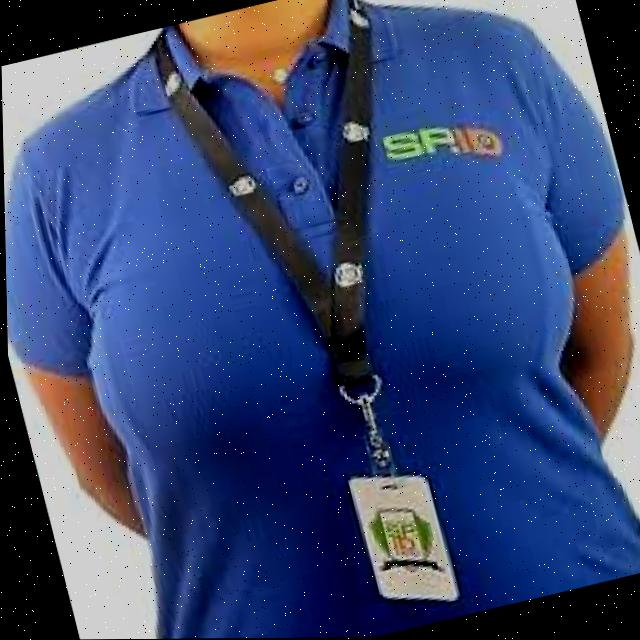id_card: (156, 27, 502, 639)
